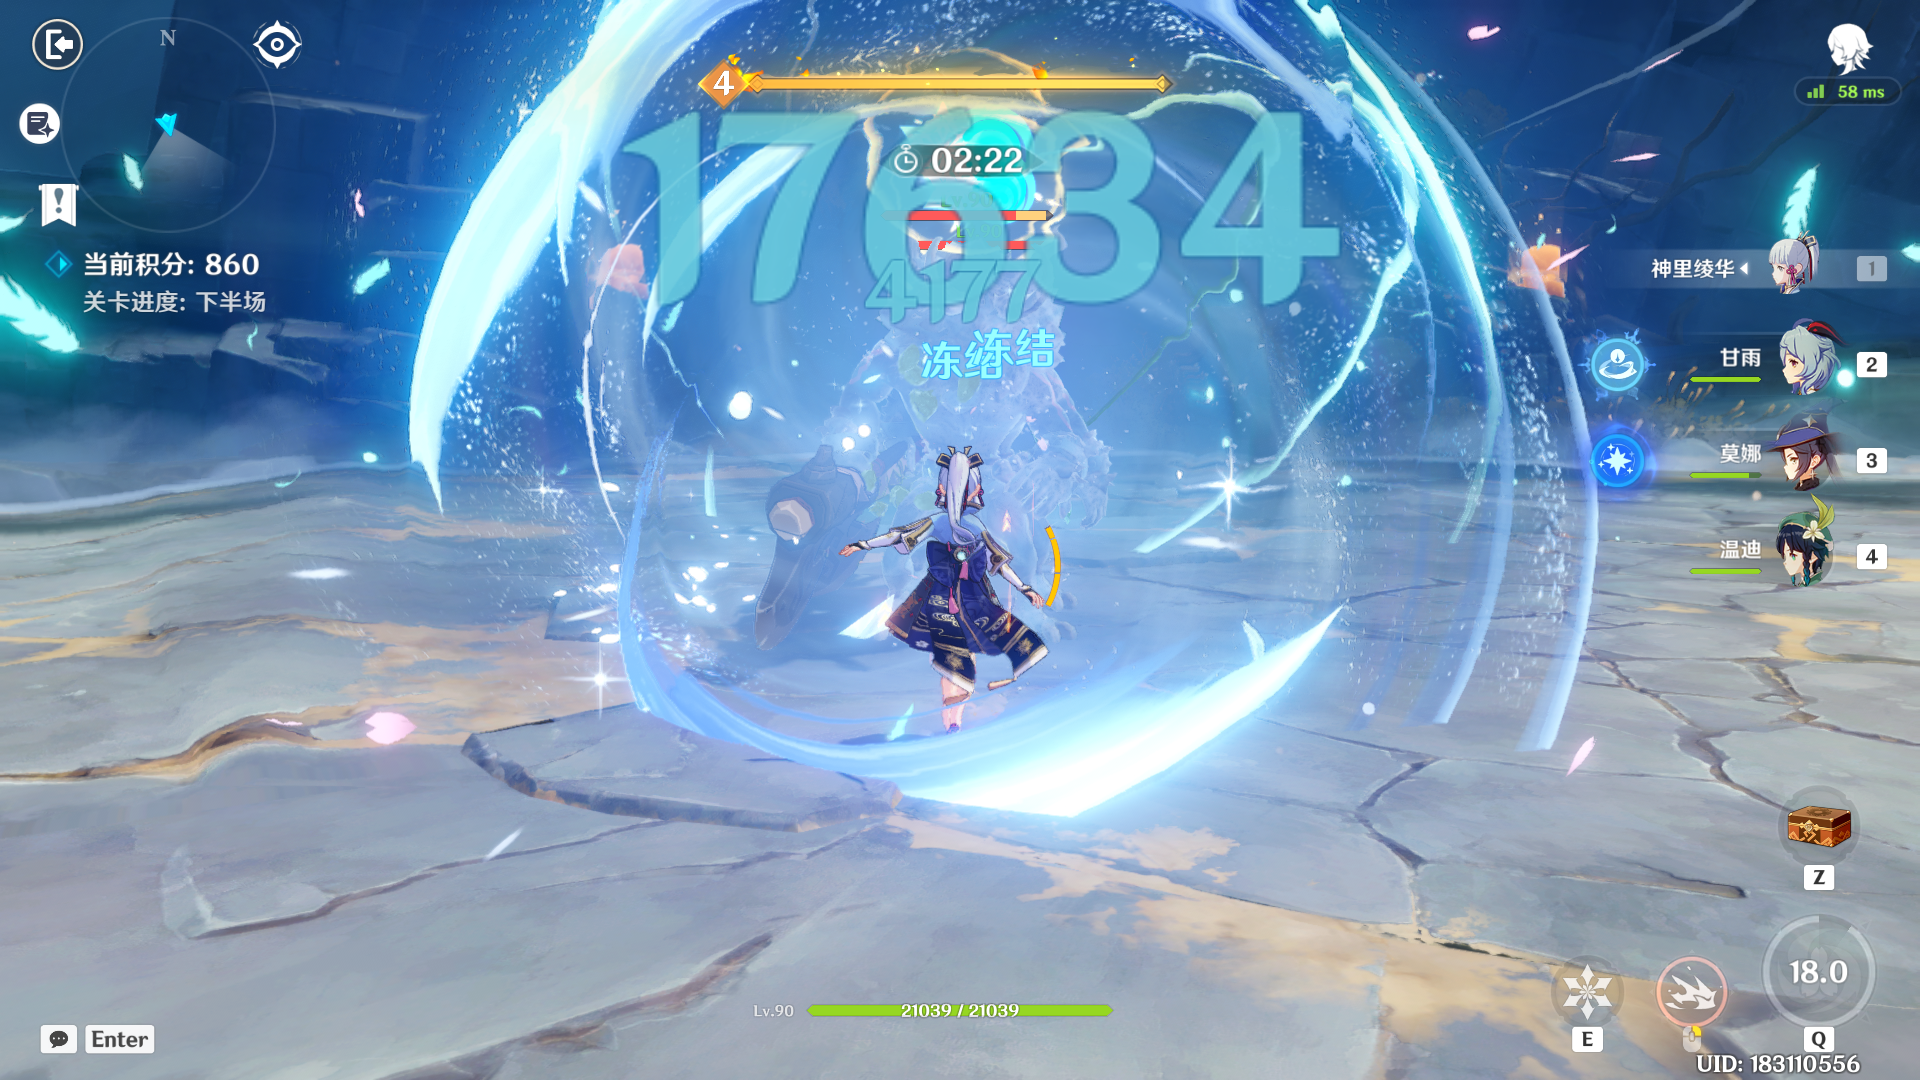character: (857, 429, 1069, 731)
